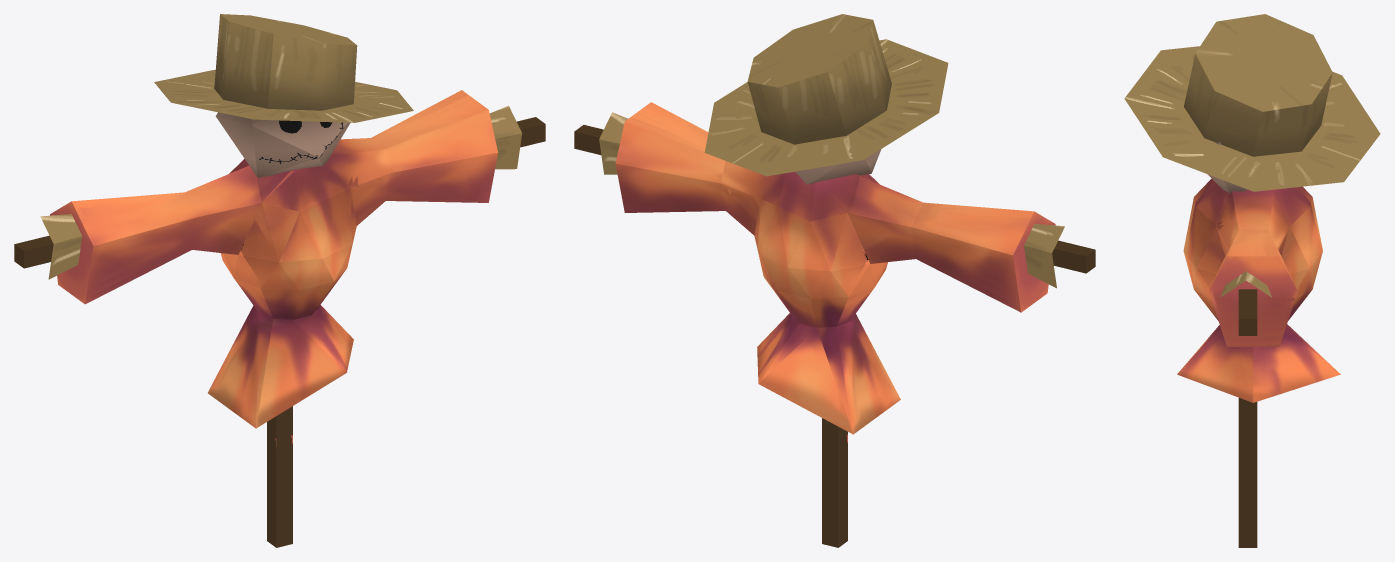
Rendered from scarecrow.gltf.
3 views of the same model, side by side, from view 1: azimuth 30°, elevation 25°; view 2: azimuth 150°, elevation 25°; view 3: azimuth 270°, elevation 25° (orthographic). The views are drawn at different scales.
Parts seen in each view (by area): view 1: ScarecrowMesh; view 2: ScarecrowMesh; view 3: ScarecrowMesh.
Part boxes in pixels (x1,y1,x2,y2): ScarecrowMesh: (14, 14, 545, 547); ScarecrowMesh: (574, 14, 1095, 547); ScarecrowMesh: (1124, 14, 1380, 547).
Size of what is drawn, in the model's own units: 1.85 by 1.79 by 0.8111.
2 materials, 2 textured.
